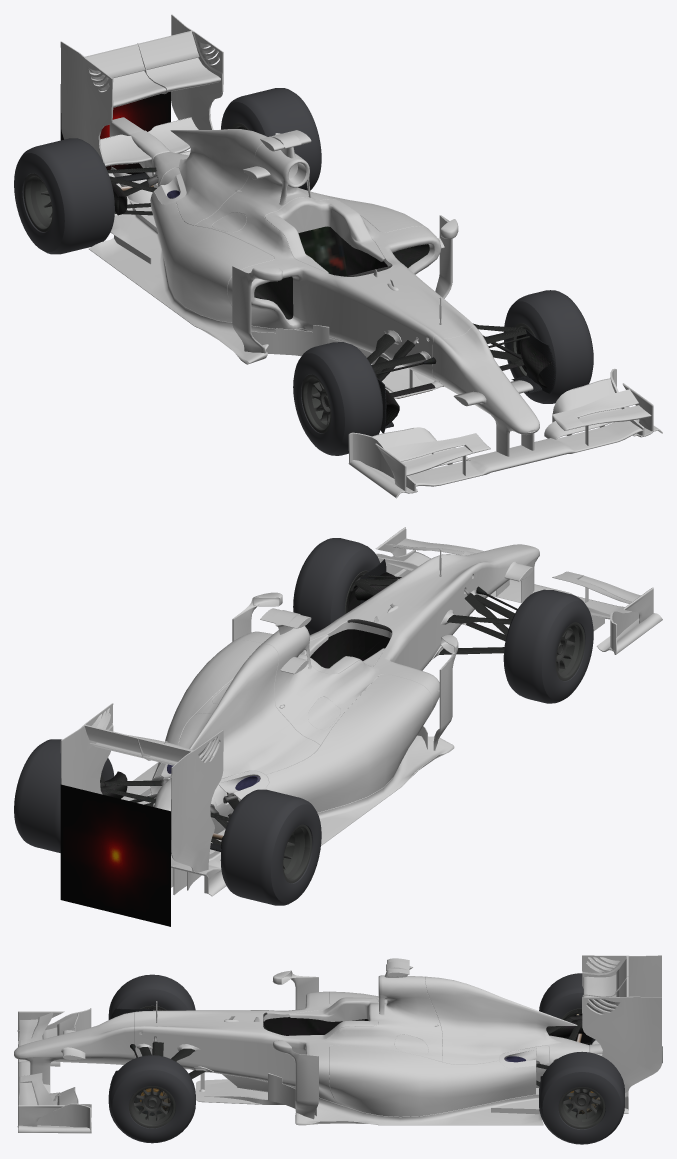
Rendered from car1.obj.
The picture shows the model from 3 angles, top to bottom: view 1: azimuth 30°, elevation 25°; view 2: azimuth 150°, elevation 25°; view 3: azimuth 270°, elevation 25°; orthographic projection. The views are drawn at different scales.
Visible parts, largest first — view 1: object__58, object__23, object__22, object__50, object__66, object__59, object__53, object__0, object__48, object__56, object__46, object__52 (+23 smaller); view 2: object__58, object__25, object__23, object__59, object__50, object__53, object__46, object__52, object__48, object__24, object__22, object__54 (+20 smaller); view 3: object__58, object__24, object__59, object__54, object__22, object__47, object__51, object__53, object__52, object__35, object__48, object__31 (+21 smaller).
Boxes of the visible parts, x1,y1,x2,y2 form: object__58: (88,117,475,398); object__23: (150,173,274,322); object__22: (432,326,539,434); object__50: (19,138,114,254); object__66: (85,31,220,107); object__59: (170,129,267,225); object__53: (60,41,113,164); object__0: (409,421,643,486); object__48: (513,290,593,403); object__56: (167,190,432,398); object__46: (302,342,382,455); object__52: (227,88,321,190); object__58: (121,548,476,896); object__25: (60,784,170,926); object__23: (218,674,432,812); object__59: (170,644,320,778); object__50: (220,789,315,905); object__53: (171,730,223,872); object__46: (504,589,585,703); object__52: (14,739,108,852); object__48: (293,538,374,634); object__24: (150,640,261,798); object__22: (435,544,539,598); object__54: (60,703,113,794); object__58: (134,989,628,1125); object__24: (329,1045,536,1116); object__59: (425,976,577,1064); object__54: (582,996,661,1092); object__22: (14,1012,134,1064); object__47: (112,1070,192,1142); object__51: (542,1072,621,1143); object__53: (582,955,661,997); object__52: (539,1051,624,1144); object__35: (17,1103,91,1133); object__48: (108,1055,195,1143); object__31: (273,1040,318,1119).
Bounding box in the file's own units: 1.8 × 1.12 × 4.84.
